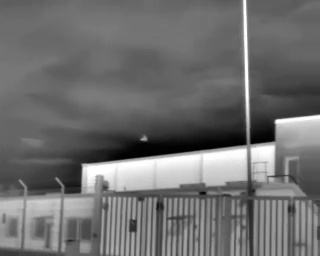HELICOPTER: (137, 131, 154, 146)
